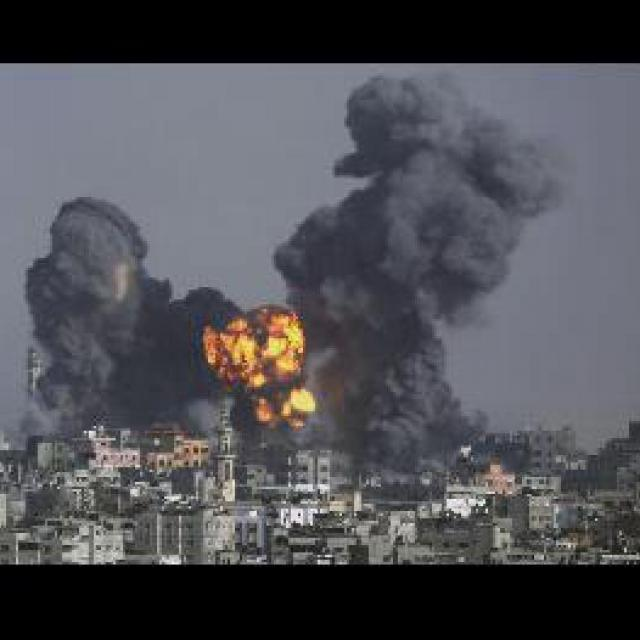fire: (195, 299, 318, 431)
smoke: (293, 75, 568, 438), (0, 175, 149, 433)
